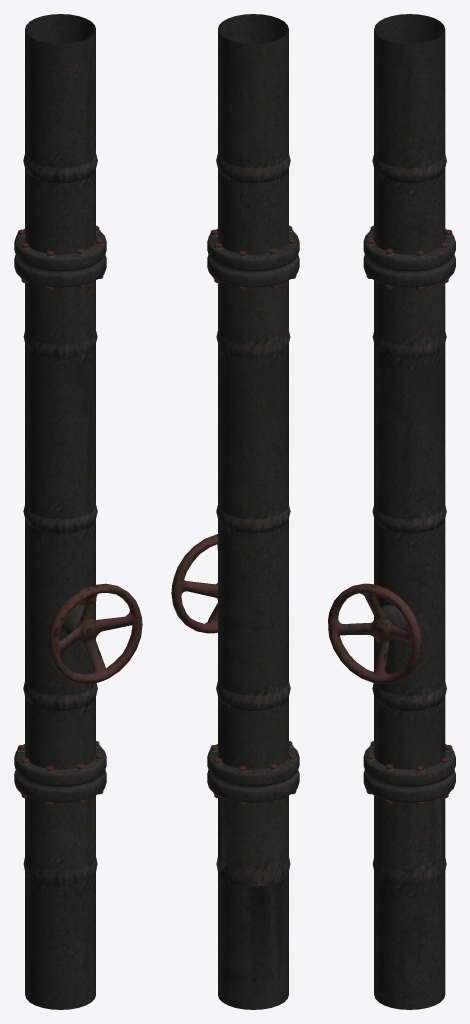
Rendered from pipe_2.obj.
The picture shows the model from 3 angles, left to right: view 1: azimuth 30°, elevation 25°; view 2: azimuth 210°, elevation 25°; view 3: azimuth 330°, elevation 25°; orthographic projection.
Parts seen in each view (by area): view 1: pipe_2, valve_1; view 2: pipe_2, valve_1; view 3: pipe_2, valve_1.
Boxes of the visible parts, x1,y1,x2,y2 form: pipe_2: (14, 14, 106, 1009); valve_1: (48, 583, 142, 683); pipe_2: (207, 14, 299, 1009); valve_1: (171, 534, 217, 633); pipe_2: (363, 14, 455, 1009); valve_1: (328, 583, 422, 683).
Bounding box in the file's own units: 0.2986 × 3 × 0.34.
